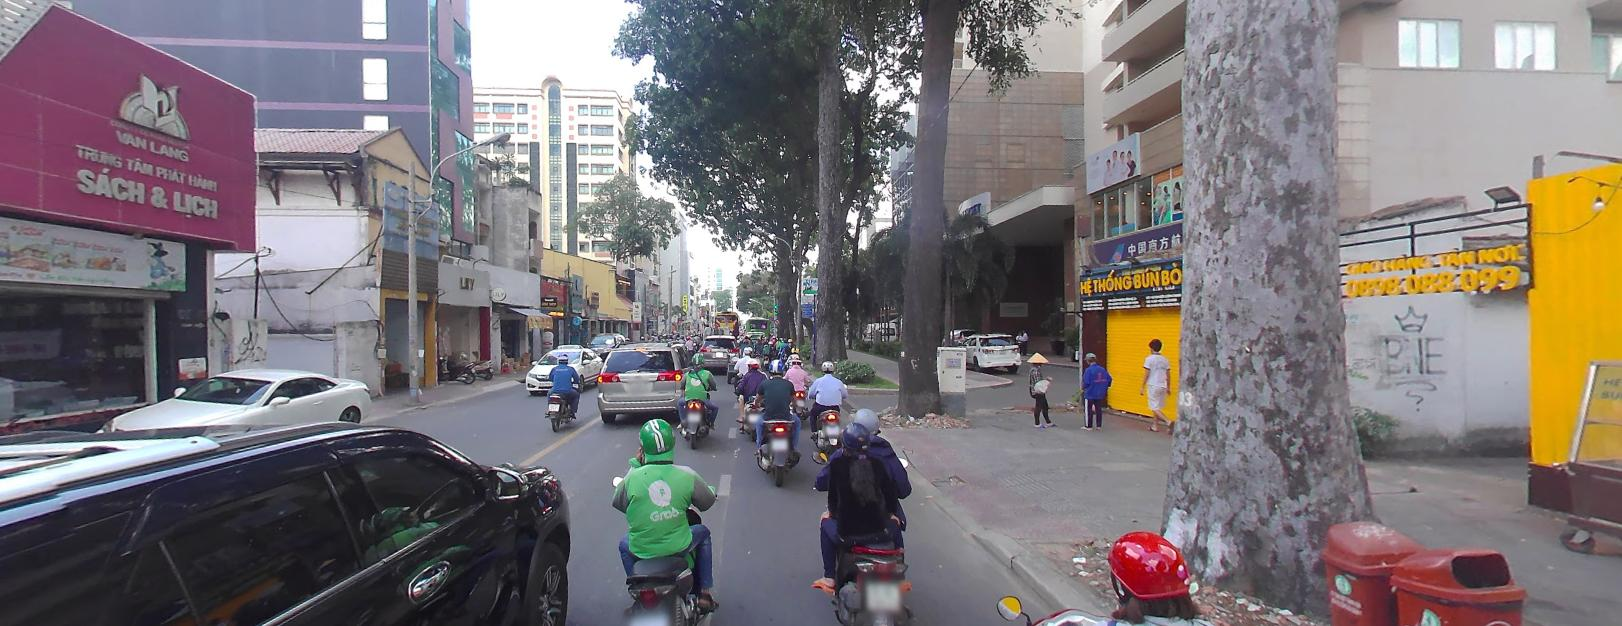Cam re: (773, 317, 779, 325)
